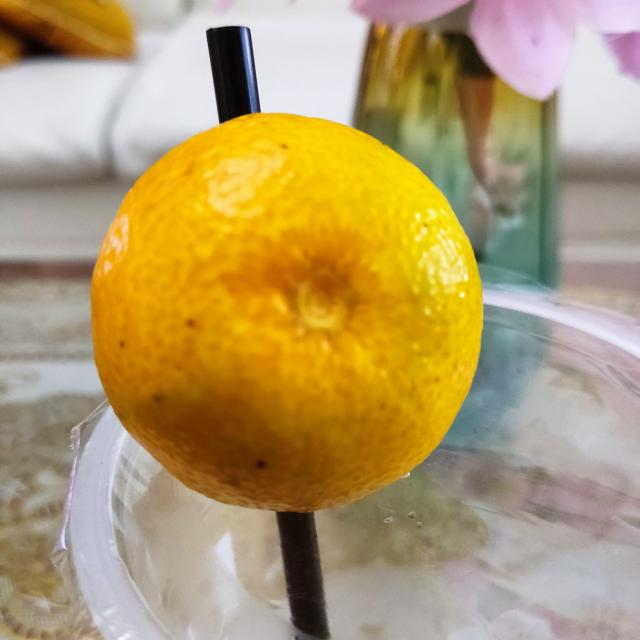orange: (88, 109, 484, 509)
